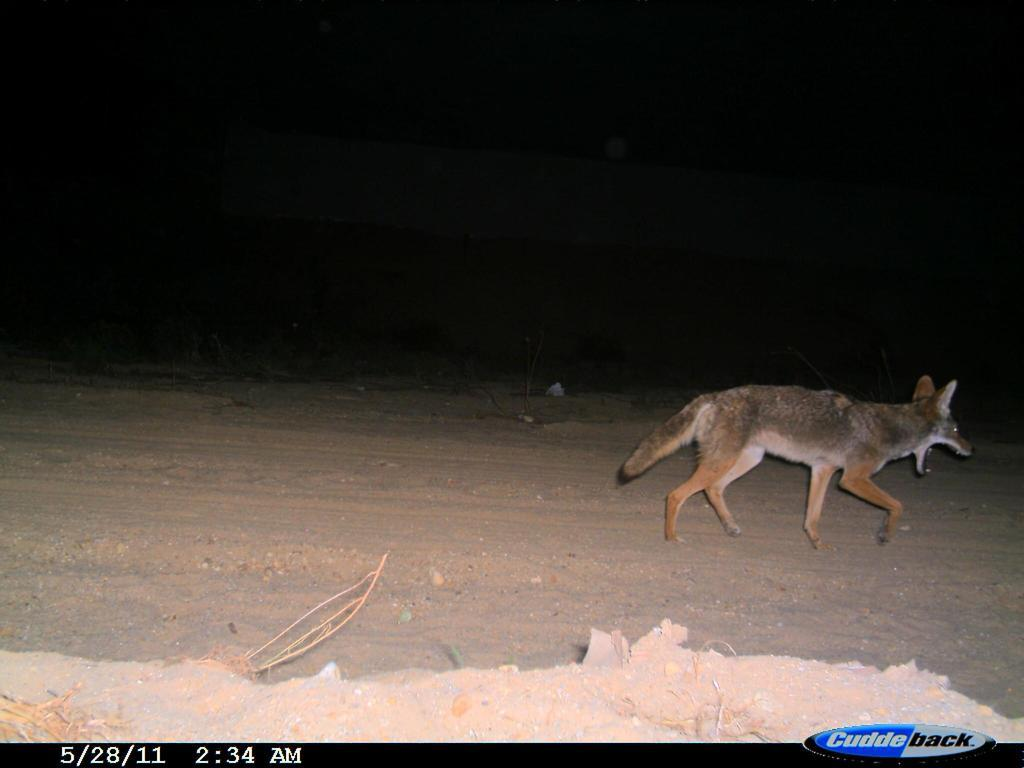coyote: (614, 366, 984, 558)
